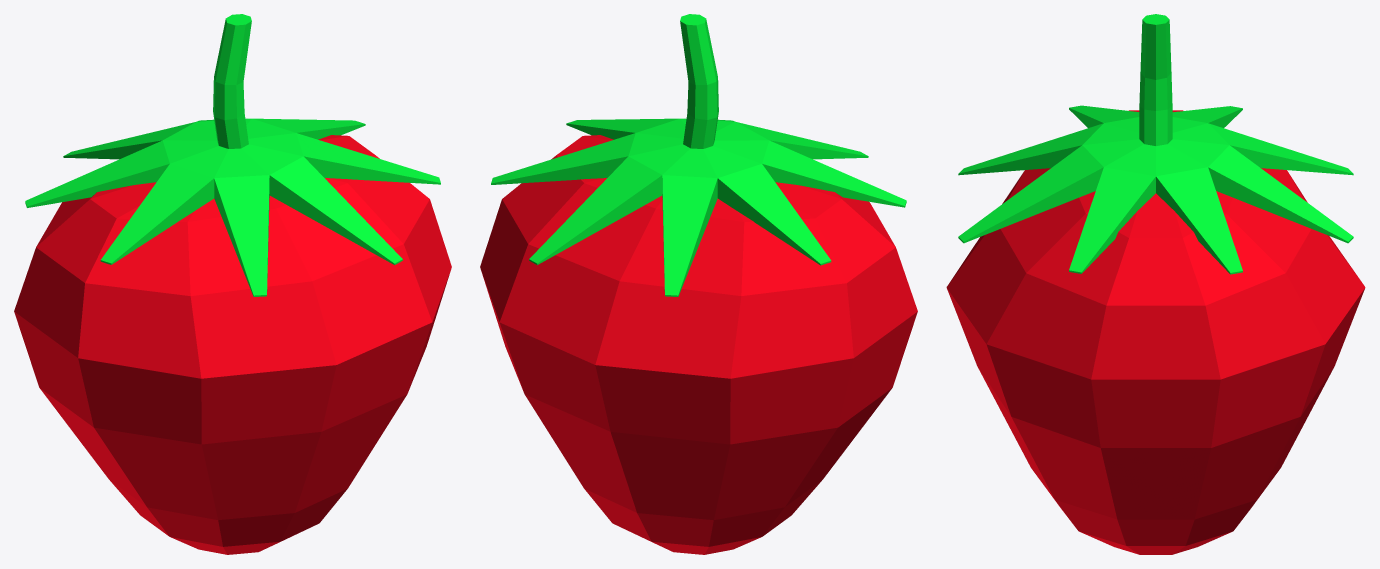
The model's file is Morango.fbx.
3 renders of one model, left to right at view 1: azimuth 30°, elevation 25°; view 2: azimuth 150°, elevation 25°; view 3: azimuth 270°, elevation 25°, orthographic.
Parts seen in each view (by area): view 1: Morango; view 2: Morango; view 3: Morango.
Part boxes in pixels (box(x1,y1,x2,y2)): Morango: box(14, 14, 451, 554); Morango: box(480, 14, 917, 554); Morango: box(946, 14, 1365, 554).
Size of the model in its own units: 8.47 by 11.29 by 8.13.
1 material, 1 textured.
